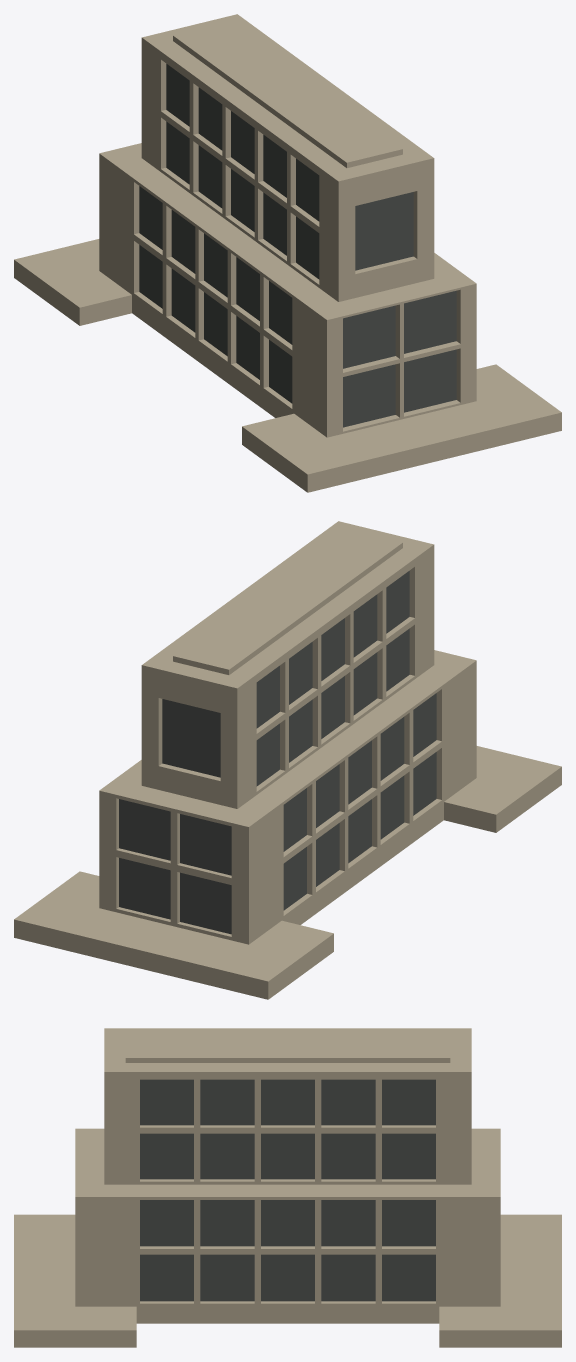
File: building_1x2_5_r.glb
The picture shows the model from 3 angles, top to bottom: view 1: azimuth 30°, elevation 25°; view 2: azimuth 150°, elevation 25°; view 3: azimuth 270°, elevation 25°; orthographic projection. The views are drawn at different scales.
Visible parts, largest first — view 1: ThirdFloor; view 2: ThirdFloor; view 3: ThirdFloor.
Boxes of the visible parts, left/top/right/bottom form: ThirdFloor: left=14, top=14, right=561, bottom=492; ThirdFloor: left=14, top=521, right=561, bottom=999; ThirdFloor: left=14, top=1028, right=561, bottom=1347.
Bounding box in the file's own units: 1.68 × 1.66 × 3.36.
